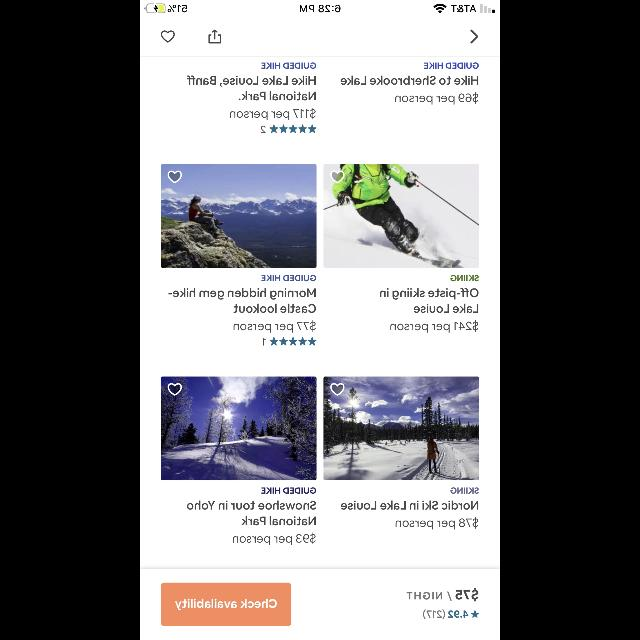icon: (270, 337, 316, 345), (270, 125, 316, 133), (168, 382, 182, 396), (168, 170, 182, 183), (330, 384, 344, 396), (330, 171, 344, 183), (209, 31, 221, 44), (162, 31, 174, 43), (470, 30, 478, 44), (471, 610, 479, 618)
image: (162, 376, 316, 479), (324, 376, 478, 479), (162, 165, 316, 268), (324, 165, 478, 268)
text: (168, 288, 316, 300), (340, 500, 478, 510), (187, 500, 316, 510), (187, 76, 315, 86), (380, 288, 478, 300), (233, 532, 315, 546), (396, 516, 478, 530), (340, 76, 478, 84), (234, 321, 316, 334), (396, 92, 478, 105), (390, 320, 478, 332), (230, 108, 316, 120), (406, 588, 478, 602), (234, 304, 316, 314), (241, 516, 315, 526), (414, 304, 478, 314), (238, 92, 316, 100), (262, 488, 316, 494), (262, 275, 316, 281), (262, 63, 316, 69), (424, 63, 478, 69), (423, 610, 445, 618), (450, 488, 478, 494), (450, 275, 478, 281), (448, 610, 468, 618), (262, 338, 266, 346), (261, 126, 265, 134)
textbutton: (161, 582, 291, 626)
uppertaskbar: (140, 0, 500, 14)
